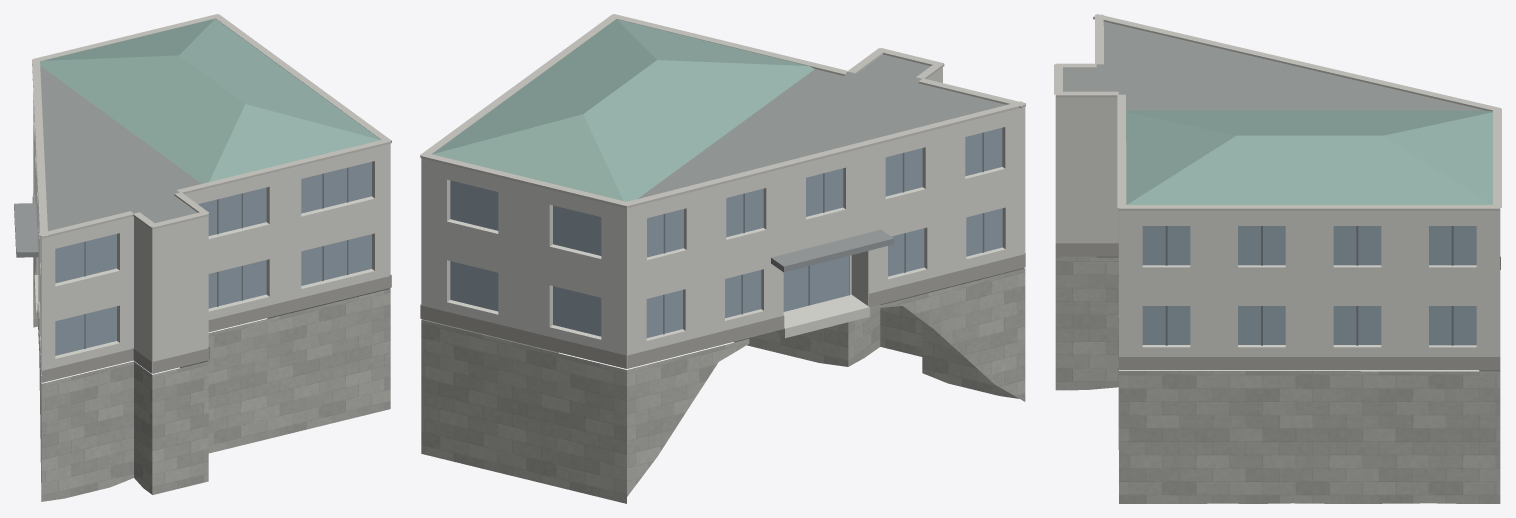
The picture shows the model from 3 angles, left to right: view 1: azimuth 30°, elevation 25°; view 2: azimuth 150°, elevation 25°; view 3: azimuth 270°, elevation 25°; orthographic projection. The views are drawn at different scales.
Parts seen in each view (by area): view 1: foundation__court_wing, court_wing__wall, court_wing__vaultRoof, court_wing__roof, court_wing__glass, court_wing__trim, court_wing__base, court_wing__canopy, court_wing__frame; view 2: court_wing__wall, foundation__court_wing, court_wing__vaultRoof, court_wing__glass, court_wing__roof, court_wing__trim, court_wing__base, court_wing__entranceThreshold_0, court_wing__canopy, court_wing__frame, court_wing__parapet; view 3: foundation__court_wing, court_wing__wall, court_wing__vaultRoof, court_wing__roof, court_wing__glass, court_wing__trim, court_wing__base, court_wing__parapet, court_wing__frame.
Boxes of the visible parts, x1,y1,x2,y2 form: foundation__court_wing: (33, 257, 390, 501); court_wing__wall: (33, 95, 390, 382); court_wing__vaultRoof: (40, 18, 380, 183); court_wing__roof: (40, 66, 201, 382); court_wing__glass: (55, 161, 371, 355); court_wing__trim: (32, 14, 391, 238); court_wing__base: (32, 194, 391, 382); court_wing__canopy: (14, 203, 38, 257); court_wing__frame: (84, 167, 348, 348); court_wing__wall: (421, 67, 1025, 368); foundation__court_wing: (421, 268, 1025, 503); court_wing__vaultRoof: (432, 19, 814, 201); court_wing__glass: (450, 128, 1002, 337); court_wing__roof: (626, 54, 1006, 368); court_wing__trim: (420, 14, 1025, 208); court_wing__base: (420, 253, 1025, 368); court_wing__entranceThreshold_0: (775, 294, 869, 338); court_wing__canopy: (771, 229, 893, 272); court_wing__frame: (663, 132, 984, 334); court_wing__parapet: (432, 19, 1021, 207); foundation__court_wing: (1055, 256, 1500, 503); court_wing__wall: (1055, 97, 1500, 356); court_wing__vaultRoof: (1126, 110, 1492, 204); court_wing__roof: (1063, 21, 1484, 110); court_wing__glass: (1142, 226, 1476, 345); court_wing__trim: (1054, 14, 1501, 210); court_wing__base: (1055, 243, 1500, 370); court_wing__parapet: (1063, 17, 1492, 111); court_wing__frame: (1165, 226, 1453, 345).
Size of the model in its own units: 18.8 by 14.34 by 18.27.
Materials: 12 (1 with a texture image).
